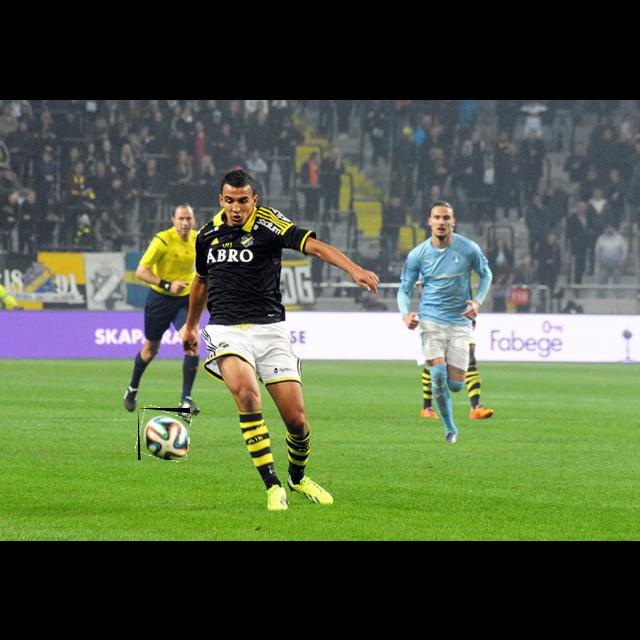Football: (138, 408, 190, 460)
